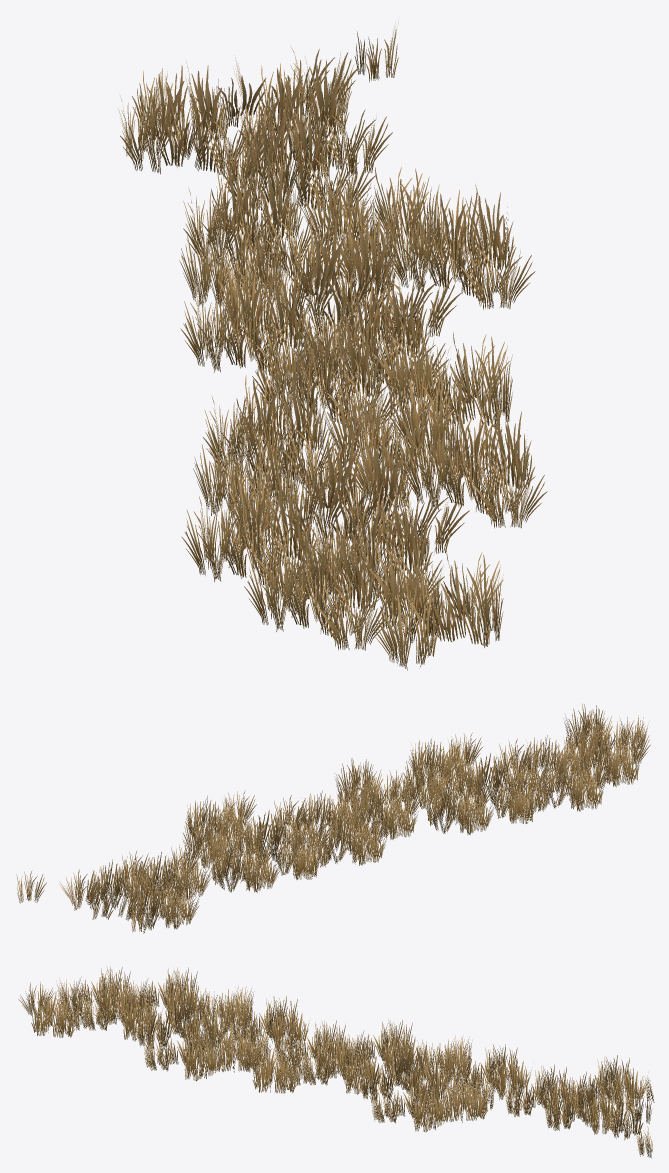
The model's file is Area_15_6.fbx.
3 views of the same model, one above another, from view 1: azimuth 30°, elevation 25°; view 2: azimuth 150°, elevation 25°; view 3: azimuth 270°, elevation 25° (orthographic). The views are drawn at different scales.
Parts seen in each view (by area): view 1: Area_15_6; view 2: Area_15_6; view 3: Area_15_6.
Boxes of the visible parts, <box> form: Area_15_6: <box>118,23,547,670</box>; Area_15_6: <box>16,703,650,933</box>; Area_15_6: <box>18,966,654,1158</box>.
Bounding box in the file's own units: 2219 × 238 × 3538.
Materials: 1 (1 with a texture image).
